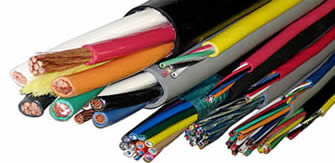Nonrec_Tangler: (9, 8, 331, 151)
